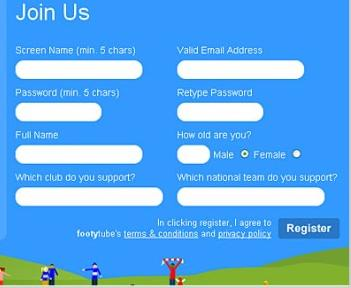button: (277, 217, 341, 241)
field: (12, 185, 166, 210), (176, 185, 327, 208), (13, 143, 145, 166), (15, 59, 146, 82), (176, 58, 306, 81), (175, 100, 267, 124), (12, 101, 103, 123), (176, 142, 211, 165)
field_with_label: (10, 173, 169, 212), (175, 173, 337, 211), (175, 44, 310, 84), (14, 45, 150, 84), (11, 130, 147, 167), (10, 88, 119, 125), (173, 87, 270, 126)
radio: (290, 147, 302, 161), (239, 147, 251, 160)
radio_with_label: (254, 145, 304, 162), (213, 145, 253, 163)
